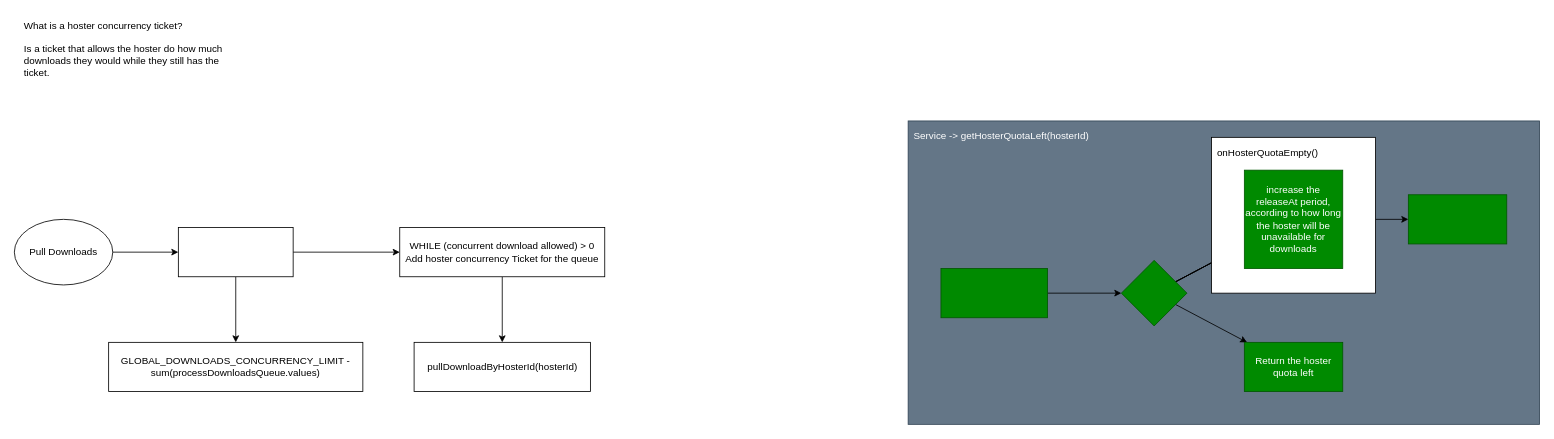
Image size: 1554x439. Some labels were removed from this diagram. Each missing label, with the box of its shape:
Calculate how much concurrent downloads is allowed: (178, 227, 293, 277)
Check if hoster has quota available by month, day and hour: (940, 268, 1048, 318)
Is hoster quota equals 0?: (1121, 260, 1187, 326)
Return 0: (1408, 194, 1507, 244)
